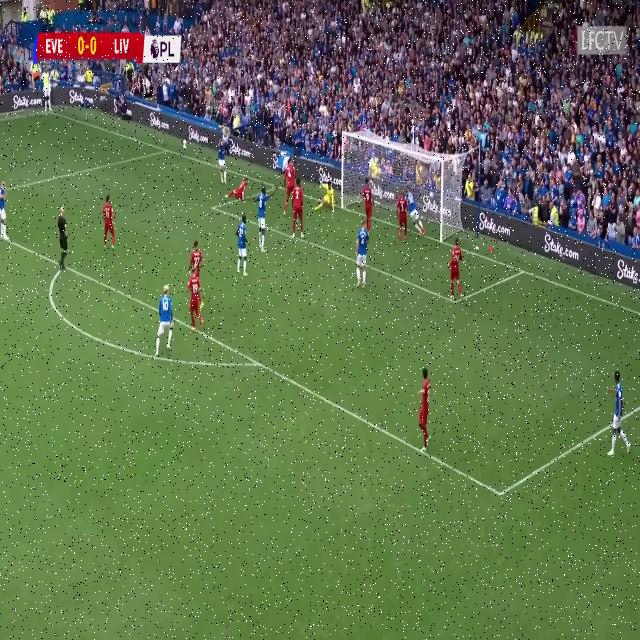Ball: (430, 190, 434, 199)
GoalKeeper: (313, 178, 335, 212)
Referee: (56, 206, 69, 271)
TEAM 1: (415, 366, 433, 452), (446, 237, 465, 303), (238, 215, 254, 289), (188, 268, 204, 334), (101, 195, 118, 251), (291, 177, 305, 242), (283, 157, 296, 215), (362, 174, 374, 236), (222, 177, 248, 202), (394, 195, 408, 240), (189, 238, 203, 269)
TEAM 2: (605, 368, 632, 456), (154, 285, 176, 358), (254, 184, 278, 250), (406, 188, 430, 236), (236, 212, 251, 278), (0, 180, 12, 241), (217, 136, 227, 184)
